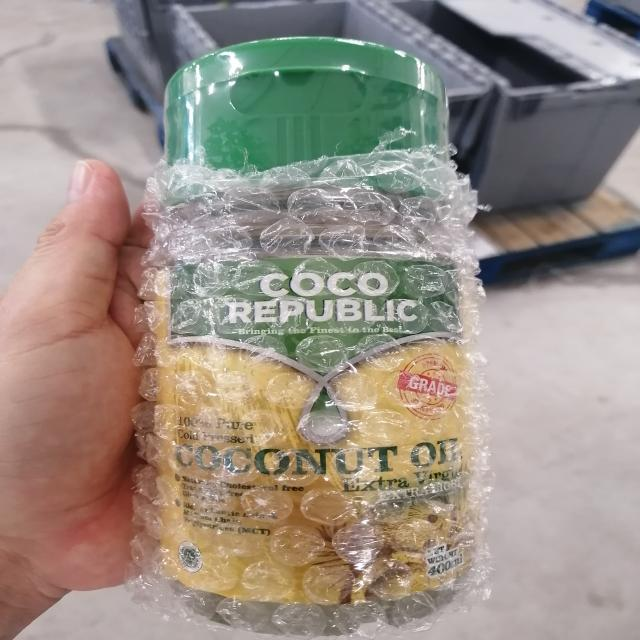object_name: (162, 50, 473, 603)
